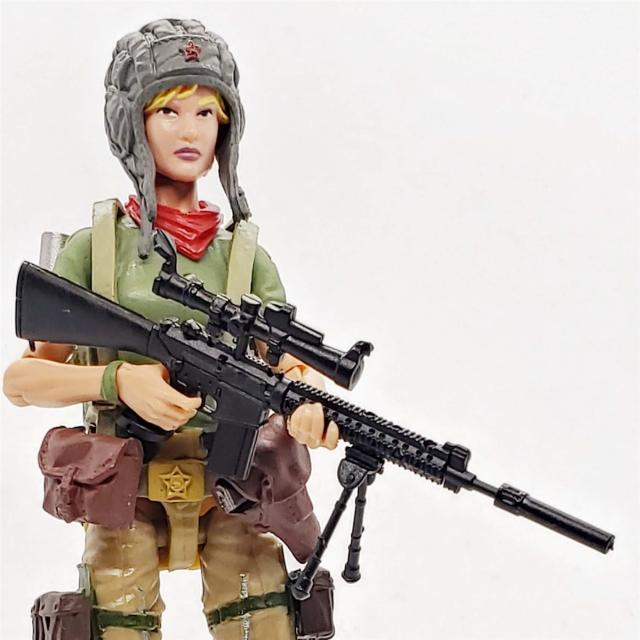Rifle: (14, 263, 616, 555)
